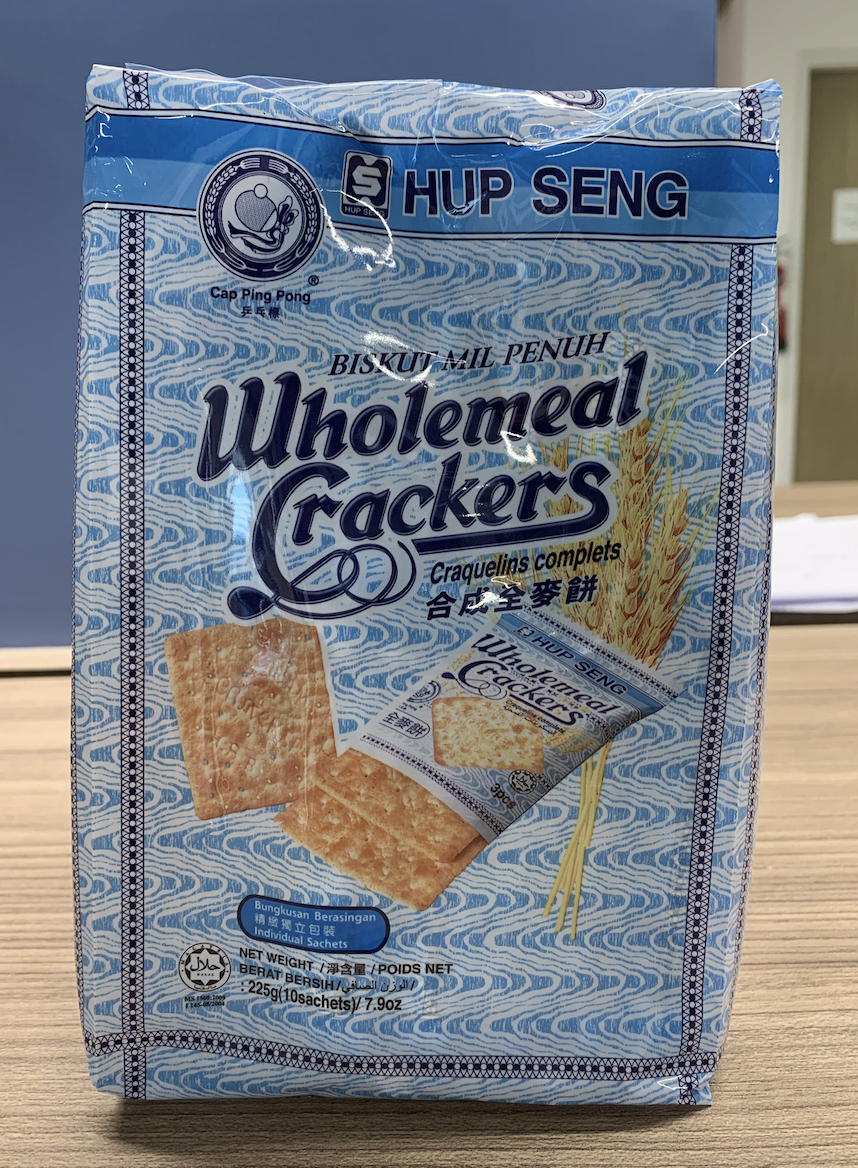crackers_200g-299g: (118, 113, 716, 1051)
